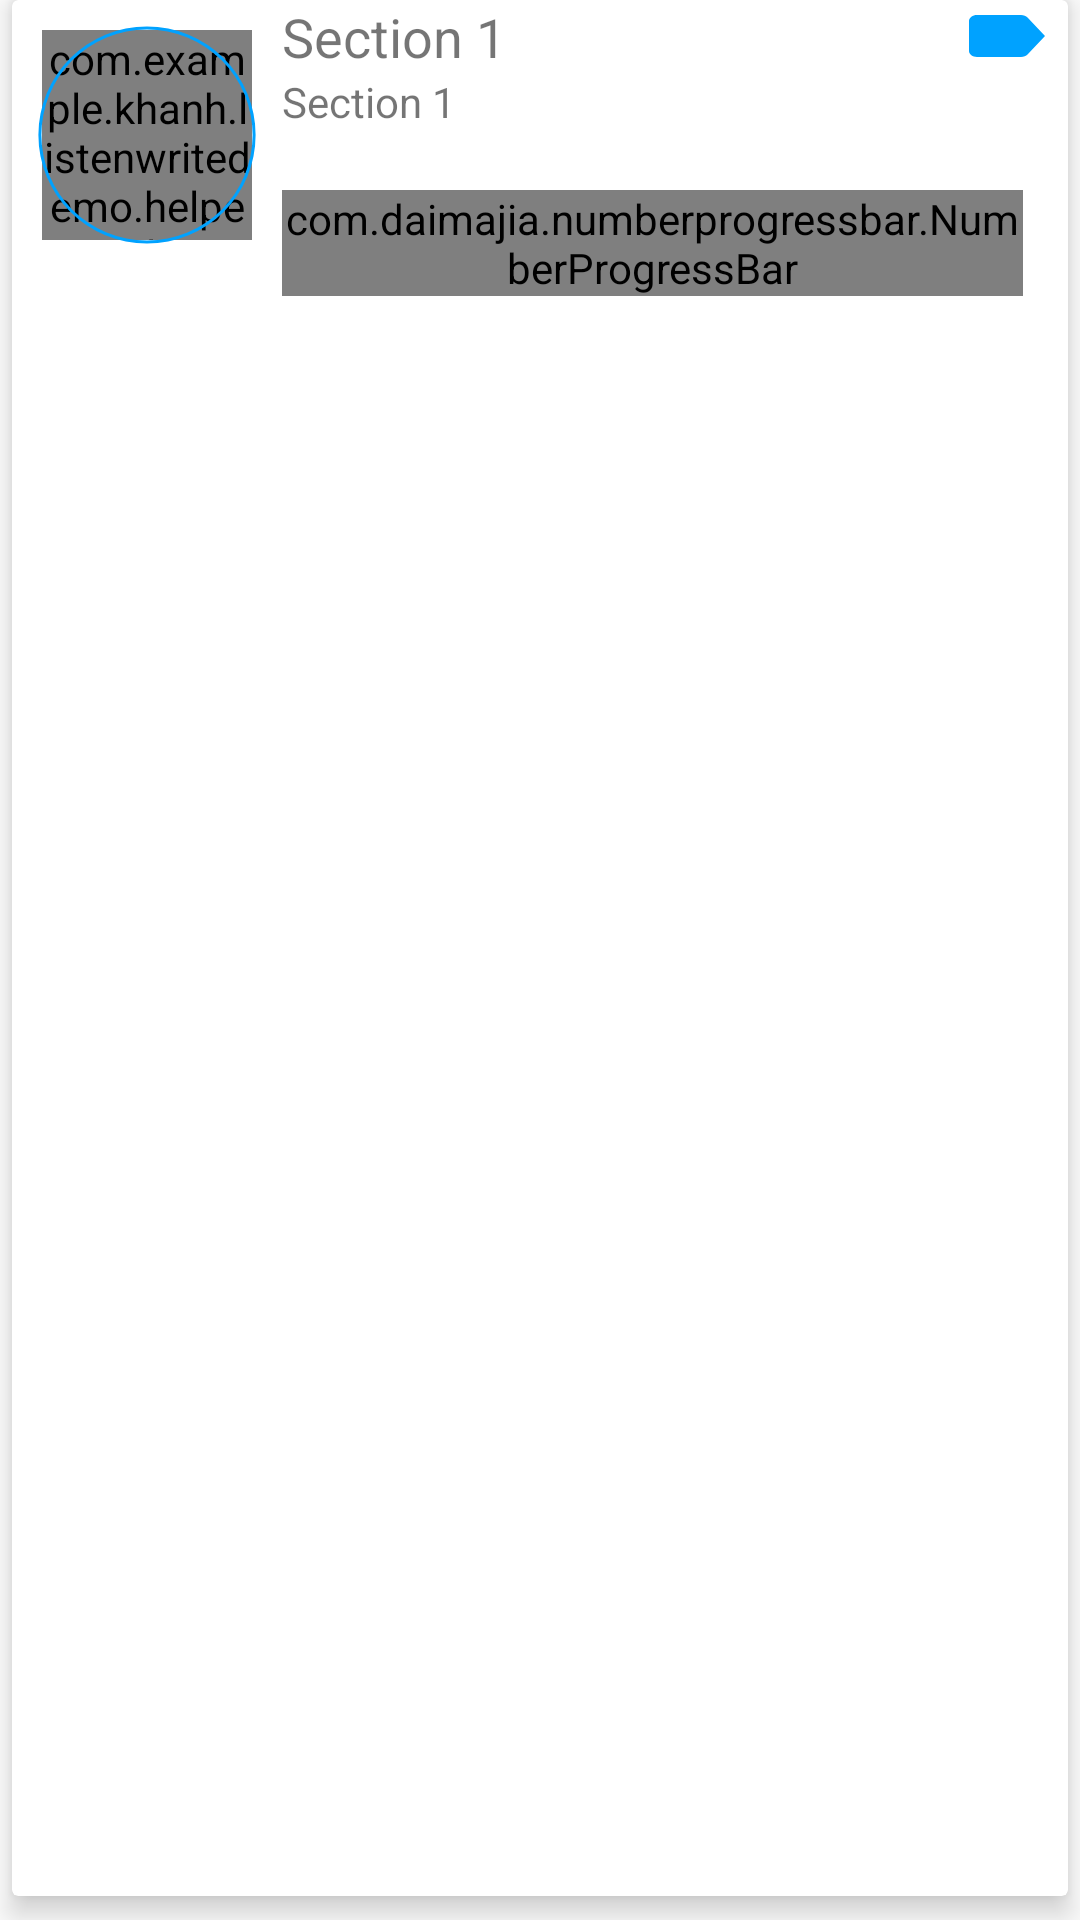

Locate icon controls on the screen. Image size 1080 x 1920, boxes as (x1=x1, y1=y1, x2=x2, y2=y2).
label: (x1=969, y1=15, x2=1045, y2=57)
